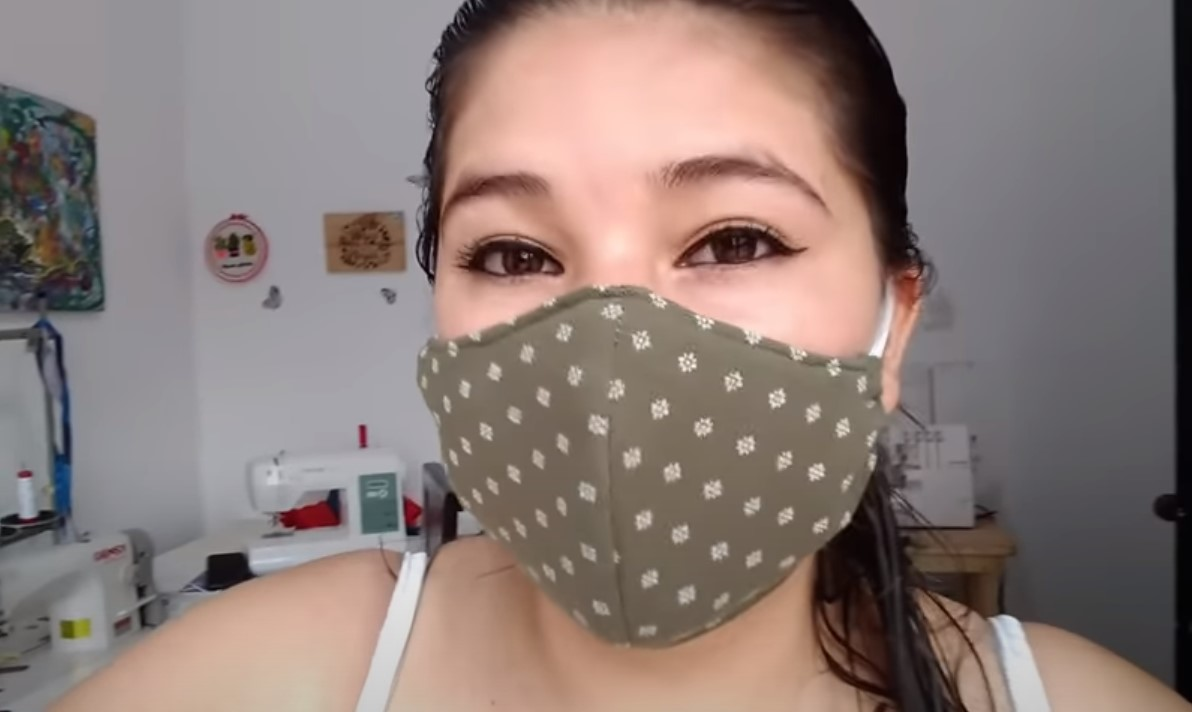face_with_mask: (411, 9, 929, 652)
